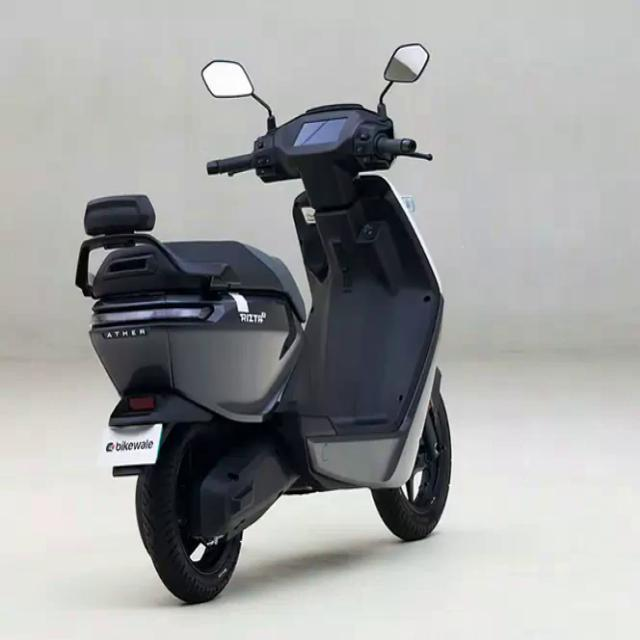objects: (66, 16, 482, 601)
